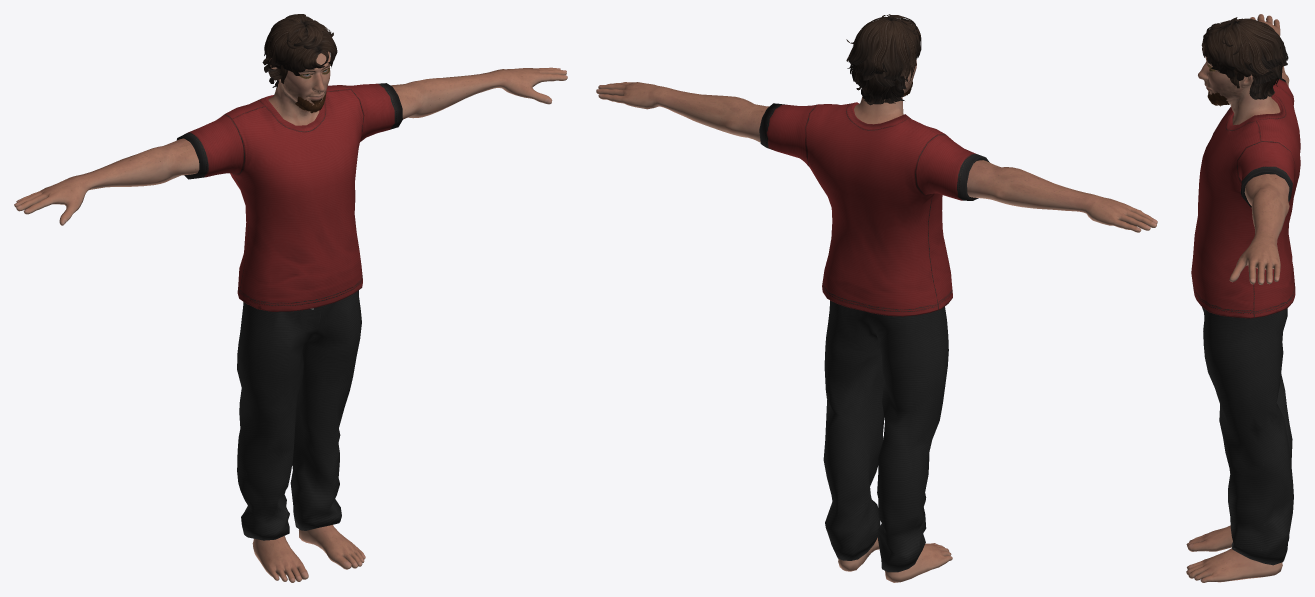
File: personagem.obj
3 views of the same model, side by side, from view 1: azimuth 30°, elevation 25°; view 2: azimuth 150°, elevation 25°; view 3: azimuth 270°, elevation 25° (orthographic).
Parts seen in each view (by area): view 1: Tops, Bottoms, Body, Hair; view 2: Tops, Bottoms, Body, Hair; view 3: Bottoms, Tops, Body, Hair, Beards.
Part boxes in pixels (x1,y1,x2,y2): Tops: (176, 83, 402, 311); Bottoms: (237, 290, 361, 540); Body: (14, 51, 567, 582); Hair: (262, 14, 337, 88); Tops: (759, 102, 989, 316); Bottoms: (823, 300, 948, 572); Body: (596, 60, 1157, 582); Hair: (846, 14, 921, 105); Bottoms: (1202, 307, 1293, 565); Tops: (1191, 78, 1300, 318); Body: (1186, 14, 1289, 582); Hair: (1201, 17, 1288, 99); Beards: (1207, 91, 1230, 106).
Size of the model in its own units: 194 by 181 by 34.72.
Materials: 5 (5 with a texture image).
